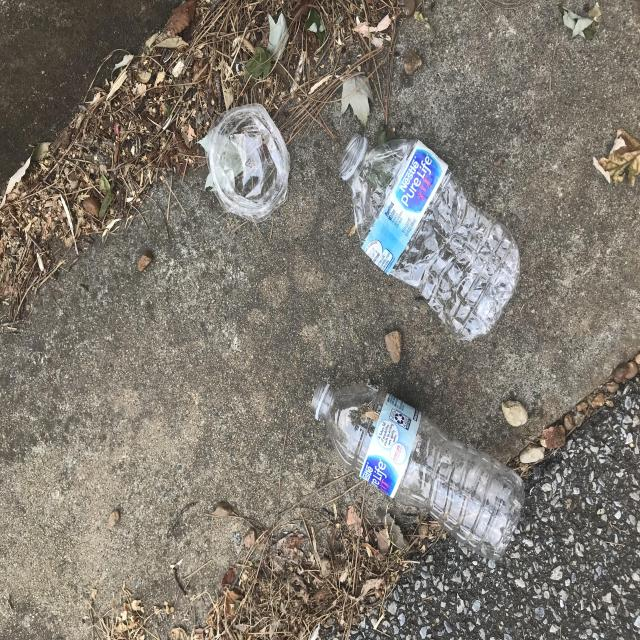litter: (307, 380, 526, 557), (340, 136, 521, 344), (206, 105, 292, 215)
